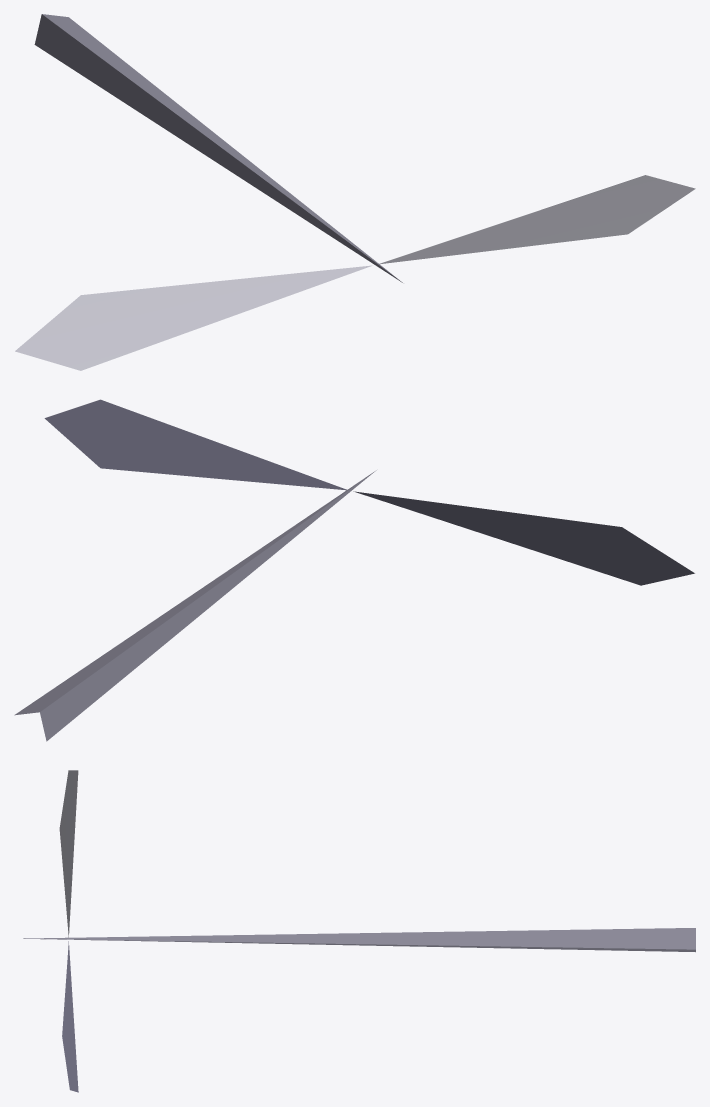
File: propeller.glb
3 renders of one model, top to bottom at view 1: azimuth 30°, elevation 25°; view 2: azimuth 150°, elevation 25°; view 3: azimuth 270°, elevation 25°, orthographic. The views are drawn at different scales.
Parts seen in each view (by area): view 1: joint_rblade_rot, joint_shaft_rot, joint_lblade_rot; view 2: joint_lblade_rot, joint_rblade_rot, joint_shaft_rot; view 3: joint_shaft_rot, joint_rblade_rot, joint_lblade_rot.
Part boxes in pixels (box(x1,y1,x2,y2)): joint_rblade_rot: box(15, 265, 372, 370); joint_shaft_rot: box(34, 14, 402, 282); joint_lblade_rot: box(379, 175, 695, 264); joint_lblade_rot: box(44, 399, 346, 490); joint_rblade_rot: box(353, 491, 694, 585); joint_shaft_rot: box(14, 470, 376, 741); joint_shaft_rot: box(23, 928, 695, 952); joint_rblade_rot: box(59, 770, 78, 937); joint_lblade_rot: box(62, 941, 78, 1092).
Size of the model in its own units: 3.46 by 0.3518 by 3.16.
